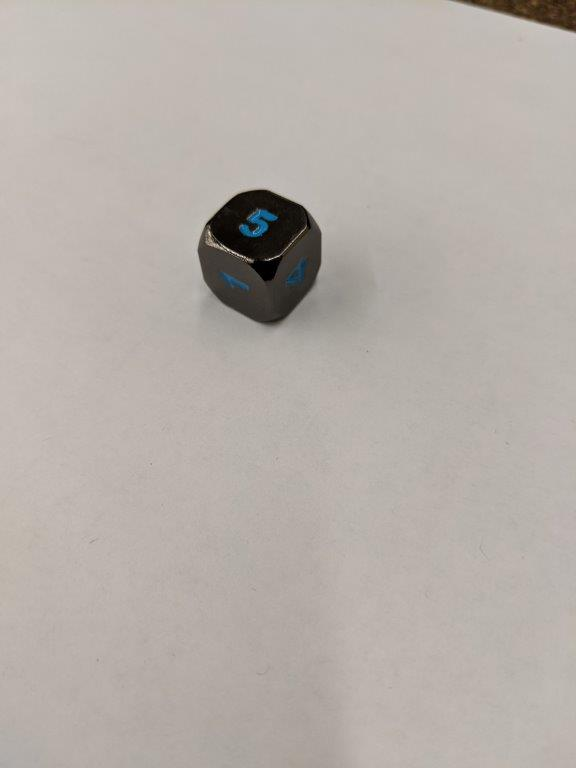d6-5: (198, 189, 324, 327)
